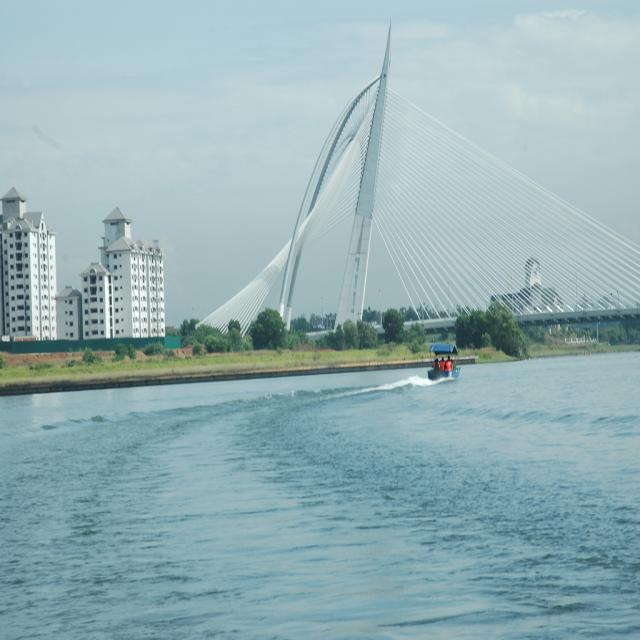Boat: (428, 343, 458, 379)
